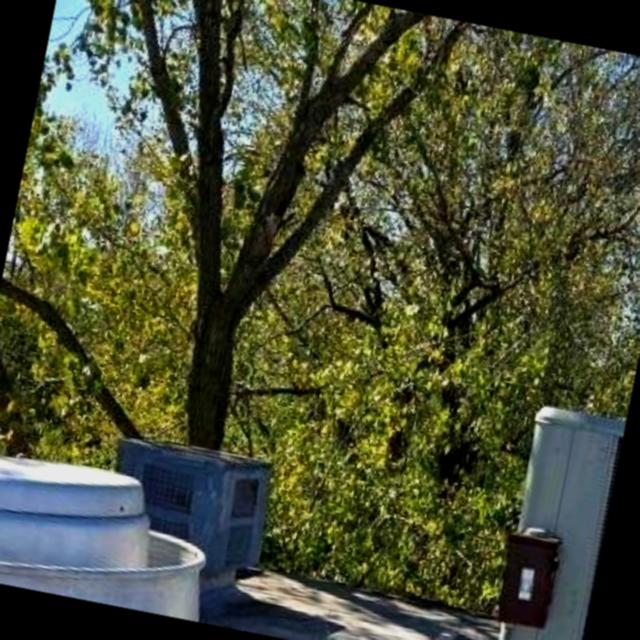GRAVITY-VENT: (0, 437, 244, 626)
SPLIT-SYSTEM: (79, 416, 294, 604), (467, 392, 628, 640)
